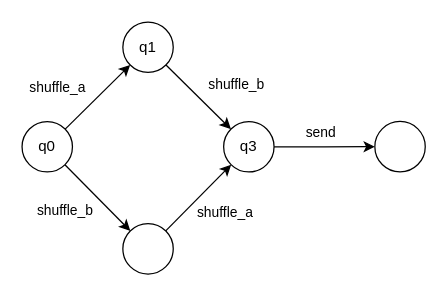
The diagram is 447 pixels wide and 296 high, and some of its shapes have lost their labels. The box of each missing label's shape, as (x1, y1, x2, y2) in pixels:
q2: (122, 222, 173, 274)
q4: (374, 120, 425, 172)
